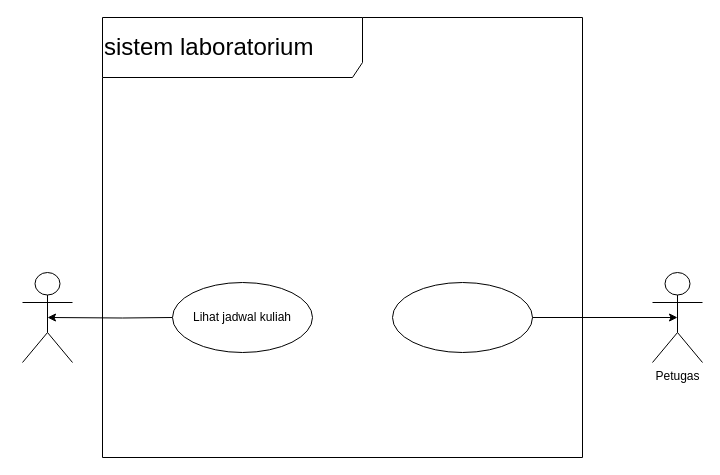
This 720x475 diagram has some shape labels left out. The centre of each missing label's shape, as x and y in pixels:
"Kelola jadwal kulaih" goes at (462,317).
"Mahasiswa" goes at (47,317).
